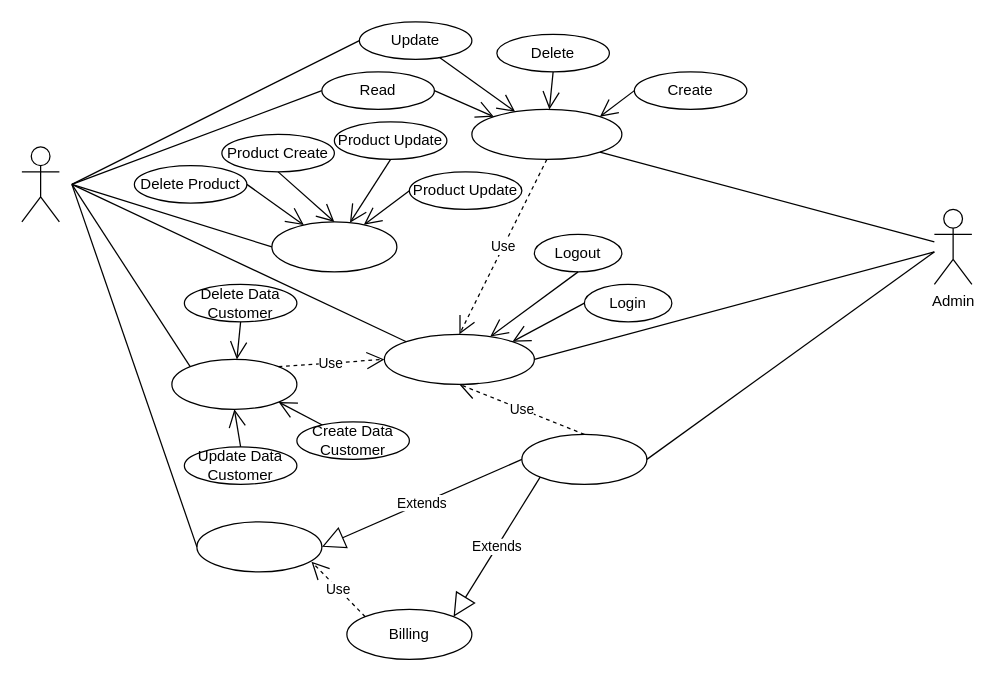
Image size: 996x681. Some labels were removed from this diagram. The centre of each missing label's shape, as x and y in pixels:
"Company" belongs at (x=546, y=133).
"Customer Data" belongs at (x=234, y=383).
"Invoice" belongs at (x=259, y=546).
"Product Data" belongs at (x=334, y=246).
"Transaction Data" belongs at (x=584, y=458).
"User" belongs at (x=40, y=184).
"User Access" belongs at (x=458, y=358).
